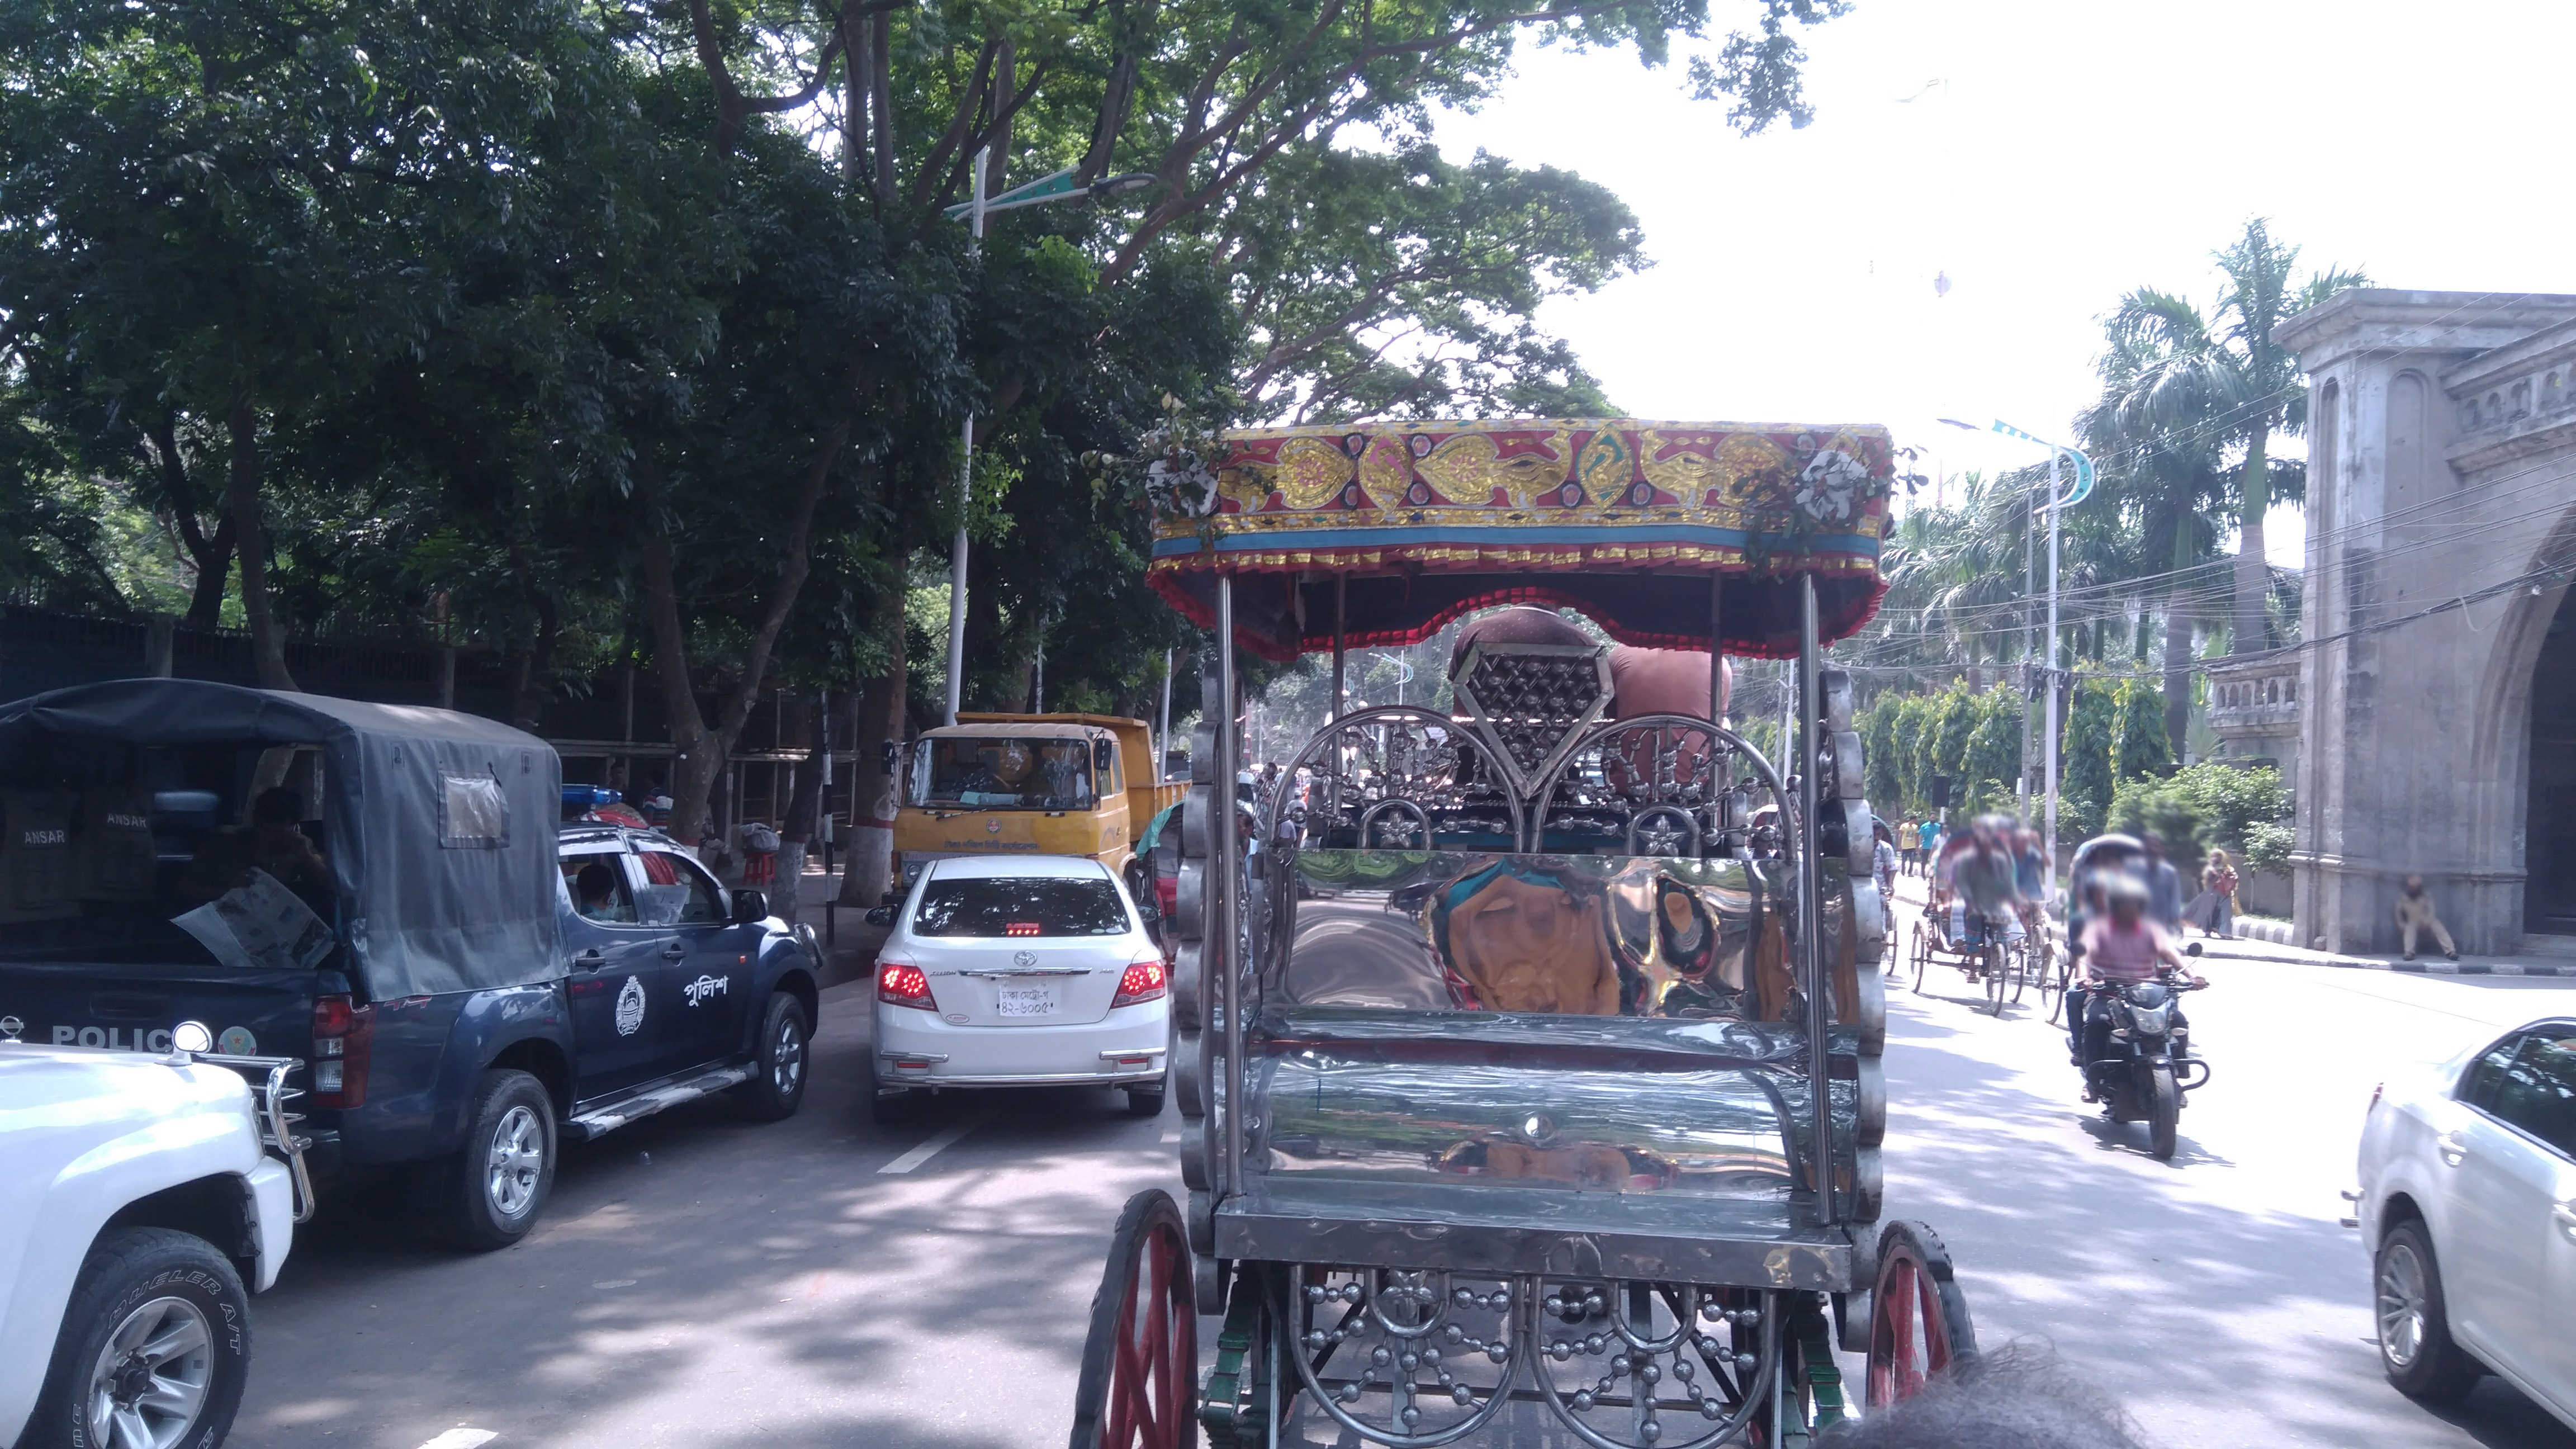bike: (2065, 952, 2213, 1164)
car: (0, 692, 856, 1244), (0, 1039, 336, 1444), (2346, 1003, 2574, 1449), (876, 833, 1198, 1122)
horsecart: (1058, 393, 1987, 1449)
rickshaw: (1904, 819, 2036, 1024)
truck: (879, 702, 1191, 904)
